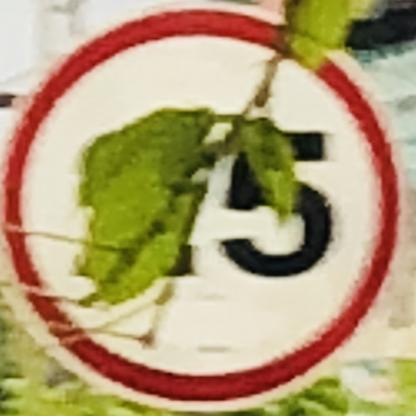Speed Limit -25 kmph-: (0, 7, 402, 414)
